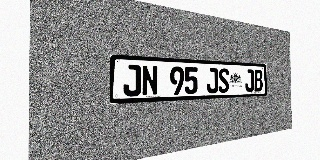5: (185, 67, 198, 94)
9: (170, 66, 184, 95)
B: (254, 69, 263, 91)
J: (123, 64, 141, 97), (206, 68, 218, 93), (245, 69, 254, 92)
N: (142, 65, 158, 96)
S: (218, 68, 229, 93)
